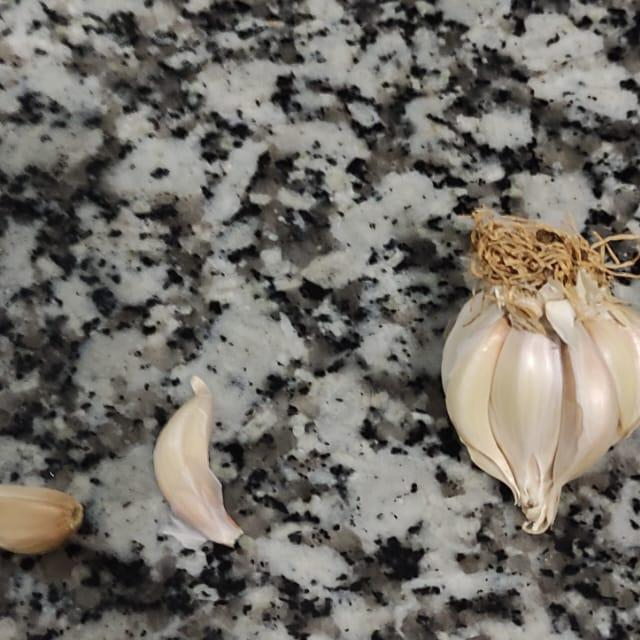garlic: (386, 179, 640, 546), (133, 346, 270, 566), (0, 439, 106, 576)
